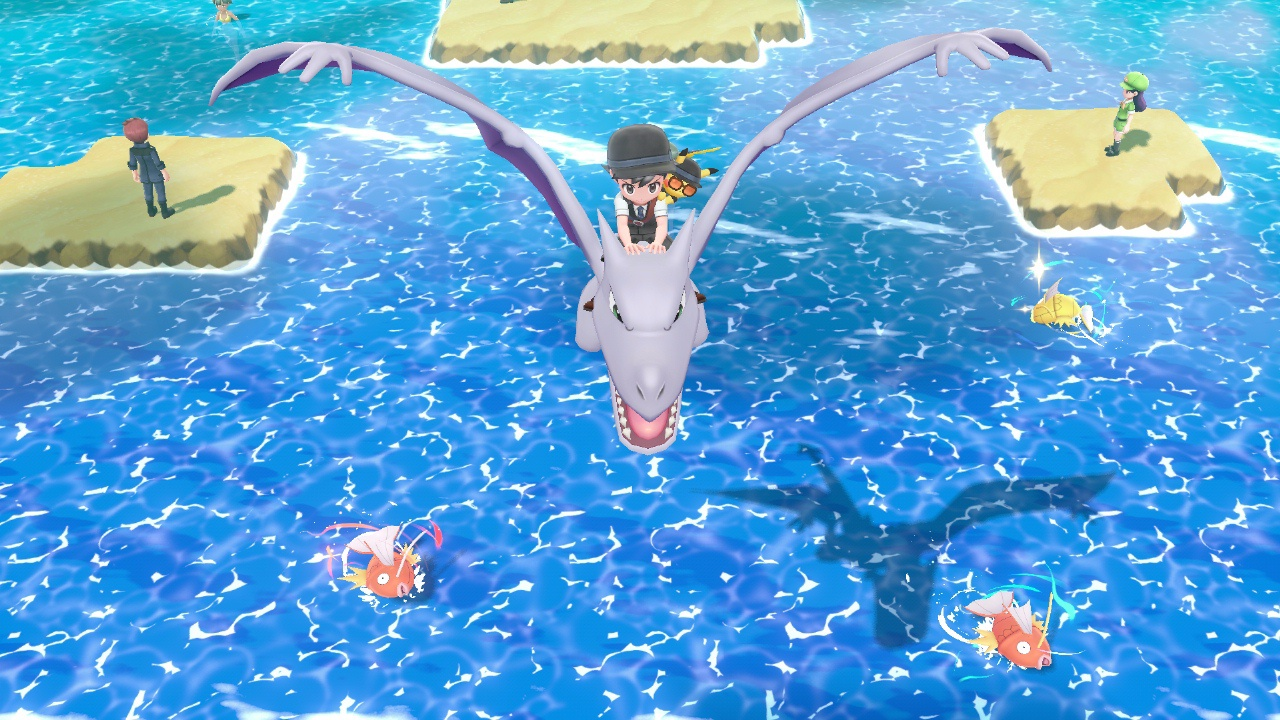Golden: (1031, 284, 1095, 332)
